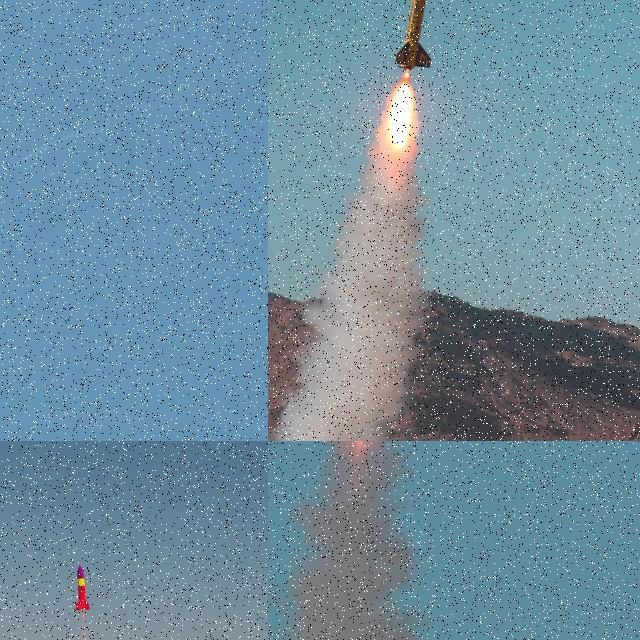Rocket: (393, 0, 434, 71), (76, 564, 92, 613), (12, 164, 15, 167)
